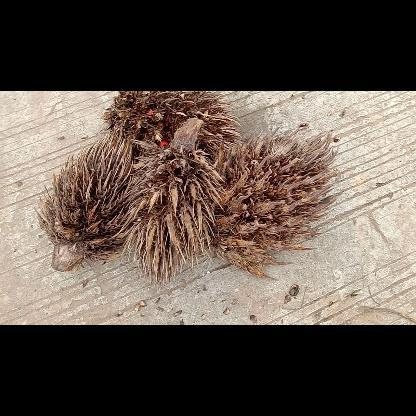Janjang kosong: (211, 128, 338, 280), (123, 118, 225, 288), (34, 128, 142, 270), (104, 90, 242, 162)
